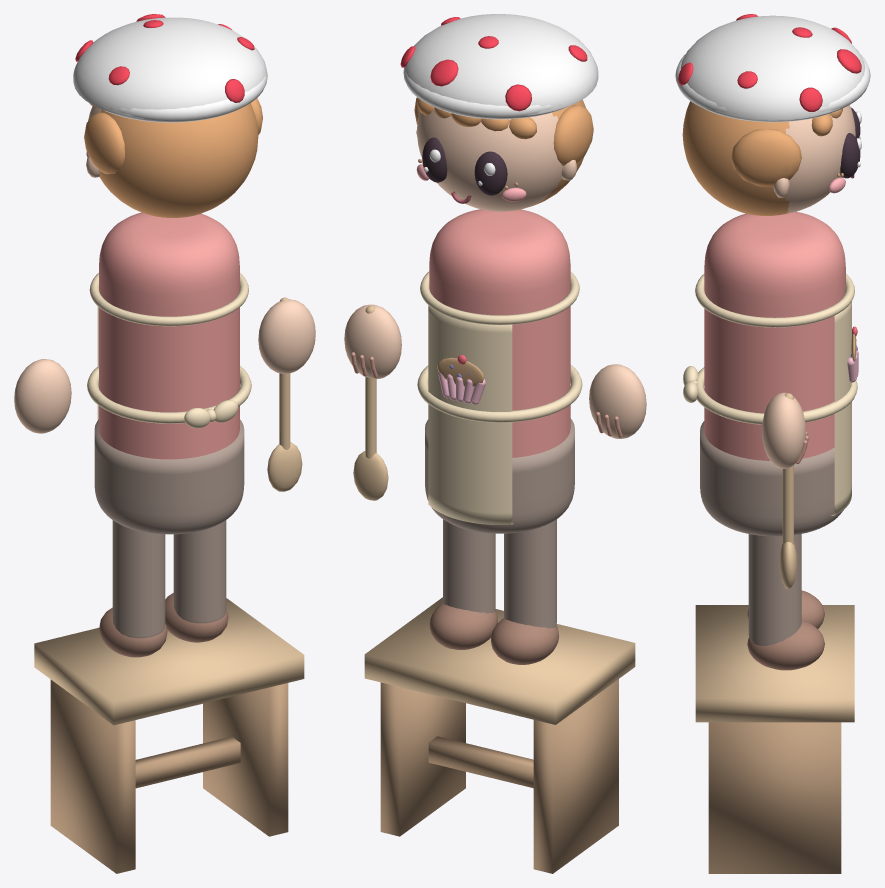
The model's file is pip.glb.
3 renders of one model, left to right at view 1: azimuth 30°, elevation 25°; view 2: azimuth 150°, elevation 25°; view 3: azimuth 270°, elevation 25°, orthographic.
Visible parts, largest first — view 1: Body, Stool, Head, LegL, LegR, HandL, HandR, Spoon; view 2: Body, Stool, Head, LegL, LegR, HandL, HandR, Spoon; view 3: Body, Stool, Head, LegR, HandR, Spoon, LegL.
Boxes of the visible parts, box(x1,y1,x2,y2) form: Body: box(87, 212, 251, 534); Stool: box(34, 598, 304, 873); Head: box(73, 14, 267, 217); LegL: box(99, 520, 167, 657); LegR: box(165, 520, 228, 642); HandL: box(14, 359, 71, 433); HandR: box(258, 299, 315, 373); Spoon: box(267, 297, 302, 491); Body: box(417, 209, 582, 533); Stool: box(364, 597, 635, 873); Head: box(400, 14, 598, 211); LegL: box(491, 519, 559, 664); LegR: box(429, 519, 497, 649); HandL: box(589, 364, 646, 438); HandR: box(344, 304, 401, 379); Spoon: box(353, 306, 388, 500); Body: box(683, 211, 858, 536); Stool: box(695, 605, 854, 873); Head: box(675, 14, 870, 215); LegR: box(747, 534, 824, 670); HandR: box(762, 392, 808, 468); Spoon: box(779, 393, 797, 589); LegL: box(747, 590, 824, 628).
Size of the model in its own units: 0.78 by 2 by 0.4417.
